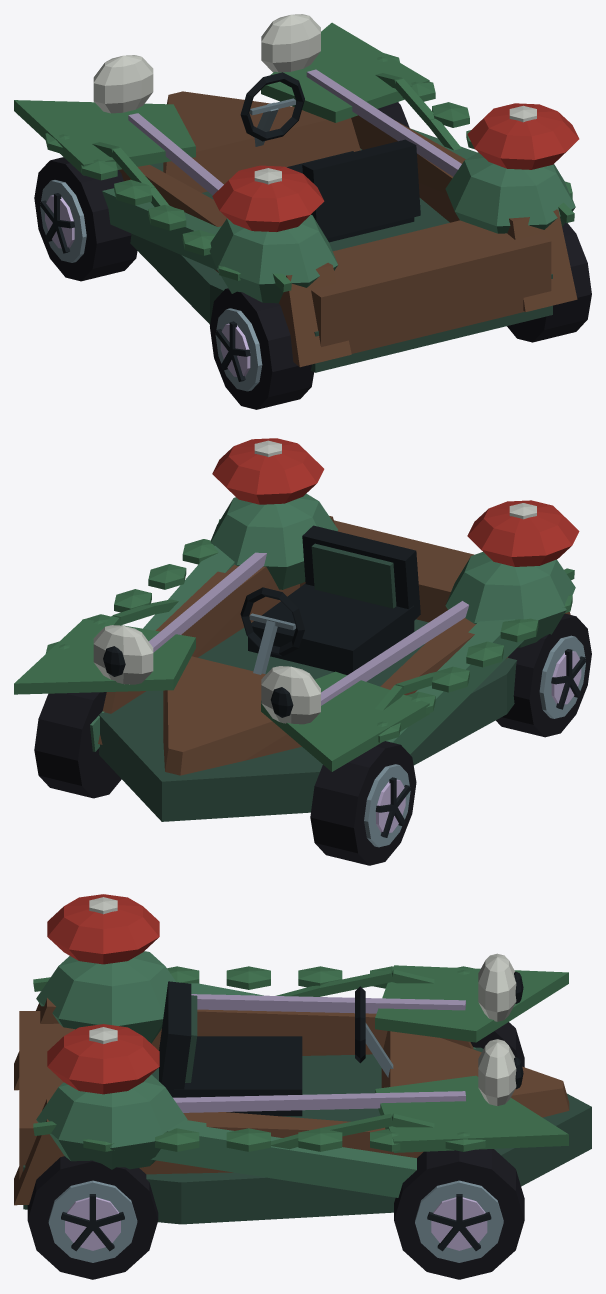
The model's file is kart.glb.
3 views of the same model, one above another, from view 1: azimuth 30°, elevation 25°; view 2: azimuth 150°, elevation 25°; view 3: azimuth 270°, elevation 25° (orthographic). The views are drawn at different scales.
Parts seen in each view (by area): view 1: identity-nature-nature-root-cradle-and-leaf-bow, identity-nature-driver-cockpit, identity-nature-motif-mushrooms, wheel-rear-left, wheel-front-left, identity-nature-motif-vines, identity-nature-motif-eyes, wheel-rear-right; view 2: identity-nature-nature-root-cradle-and-leaf-bow, identity-nature-driver-cockpit, identity-nature-motif-mushrooms, wheel-front-left, wheel-rear-left, identity-nature-motif-vines, wheel-front-right, identity-nature-motif-eyes; view 3: identity-nature-nature-root-cradle-and-leaf-bow, wheel-front-right, wheel-rear-right, identity-nature-motif-mushrooms, identity-nature-driver-cockpit, identity-nature-motif-vines, identity-nature-motif-eyes, wheel-front-left.
Part boxes in pixels (bbox=[...]): identity-nature-nature-root-cradle-and-leaf-bow: bbox=[14, 22, 577, 372]; identity-nature-driver-cockpit: bbox=[240, 72, 420, 242]; identity-nature-motif-mushrooms: bbox=[212, 103, 579, 231]; wheel-rear-left: bbox=[210, 288, 313, 409]; wheel-front-left: bbox=[34, 157, 137, 281]; identity-nature-motif-vines: bbox=[45, 53, 574, 292]; identity-nature-motif-eyes: bbox=[93, 14, 320, 113]; wheel-rear-right: bbox=[507, 222, 591, 342]; identity-nature-nature-root-cradle-and-leaf-bow: bbox=[14, 493, 575, 821]; identity-nature-driver-cockpit: bbox=[240, 525, 420, 674]; identity-nature-motif-mushrooms: bbox=[212, 438, 579, 566]; wheel-front-left: bbox=[310, 741, 416, 865]; wheel-rear-left: bbox=[496, 613, 591, 737]; identity-nature-motif-vines: bbox=[45, 519, 574, 742]; wheel-front-right: bbox=[34, 692, 121, 798]; identity-nature-motif-eyes: bbox=[93, 625, 320, 724]; identity-nature-nature-root-cradle-and-leaf-bow: bbox=[14, 951, 591, 1224]; wheel-front-right: bbox=[394, 1149, 524, 1279]; wheel-rear-right: bbox=[27, 1156, 158, 1279]; identity-nature-motif-mushrooms: bbox=[47, 894, 159, 1094]; identity-nature-driver-cockpit: bbox=[159, 981, 393, 1116]; identity-nature-motif-vines: bbox=[33, 966, 485, 1151]; identity-nature-motif-eyes: bbox=[478, 953, 523, 1105]; wheel-front-left: bbox=[470, 1022, 524, 1067].
Size of the model in its own units: 2.02 by 1.22 by 2.75.
